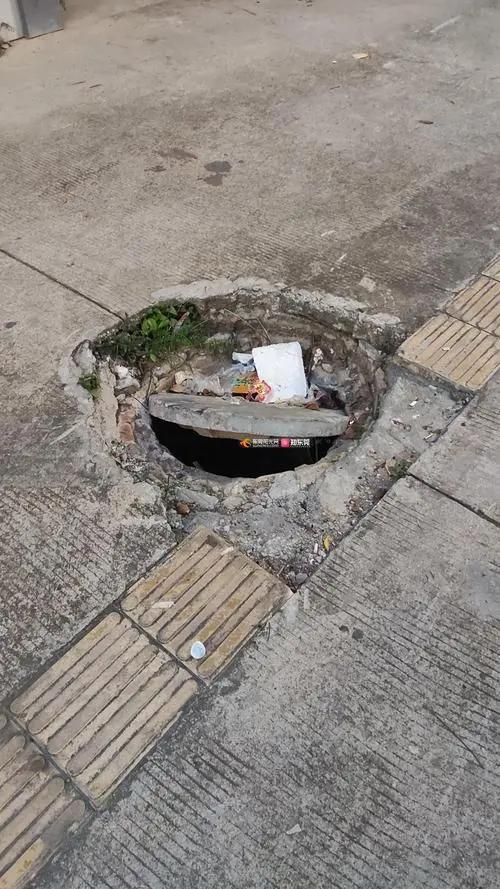wellcover: (51, 251, 390, 505)
